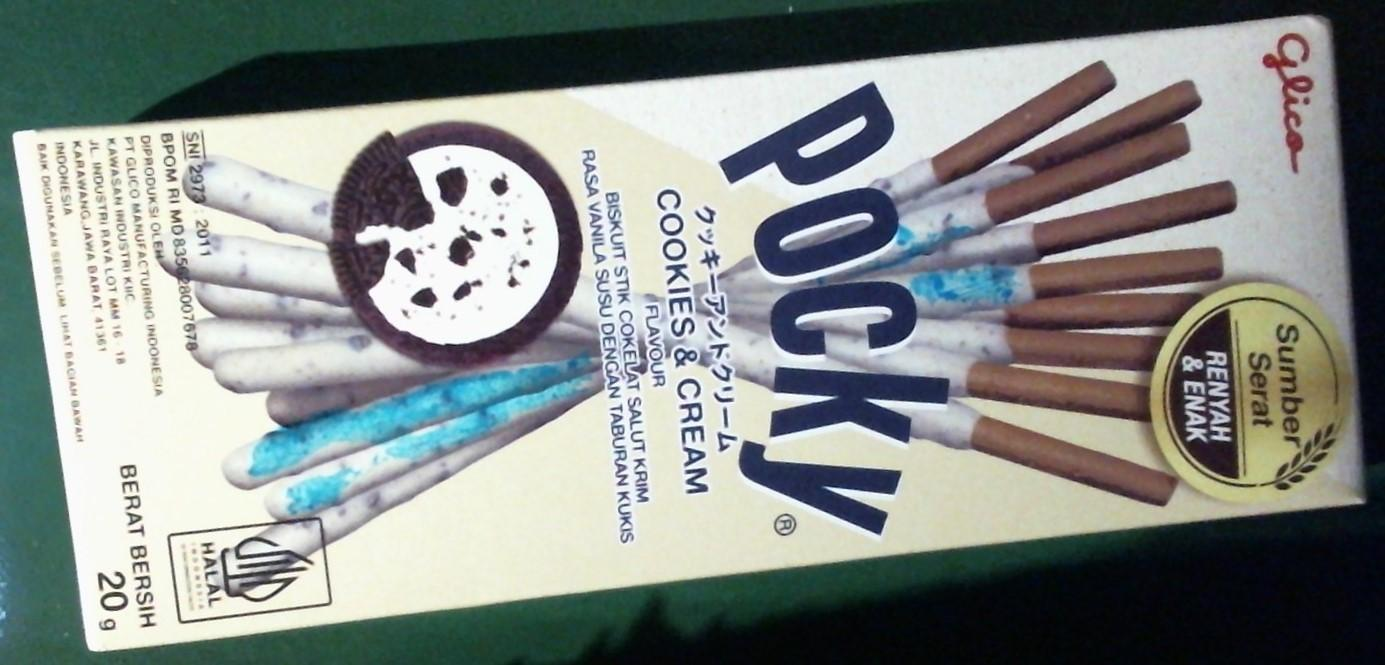Kertas: (13, 15, 1368, 652)
